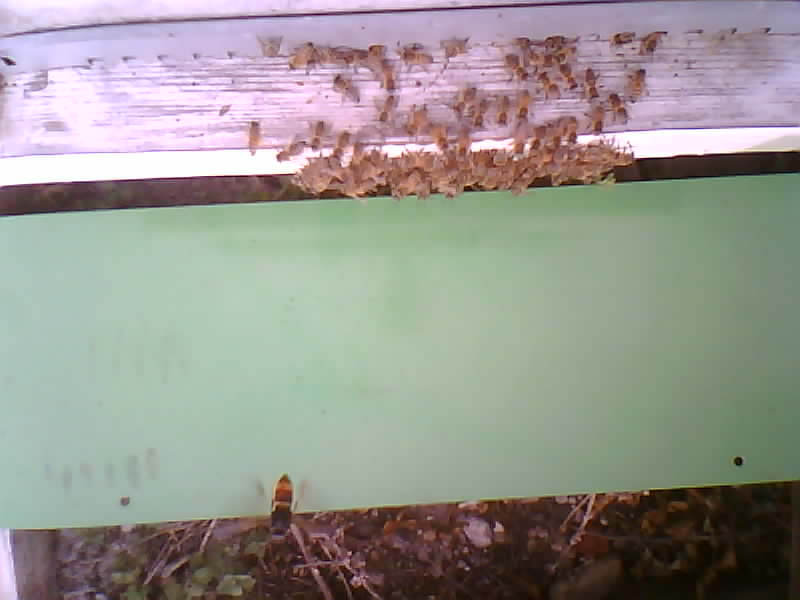bee: (285, 127, 643, 199), (504, 34, 662, 106), (282, 35, 443, 99), (458, 91, 539, 130), (243, 121, 265, 160)
hornet: (265, 474, 310, 544)
